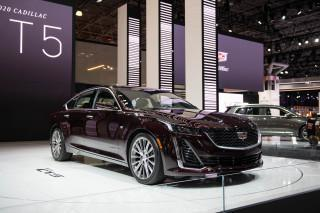cadillac: (232, 129, 253, 141)
